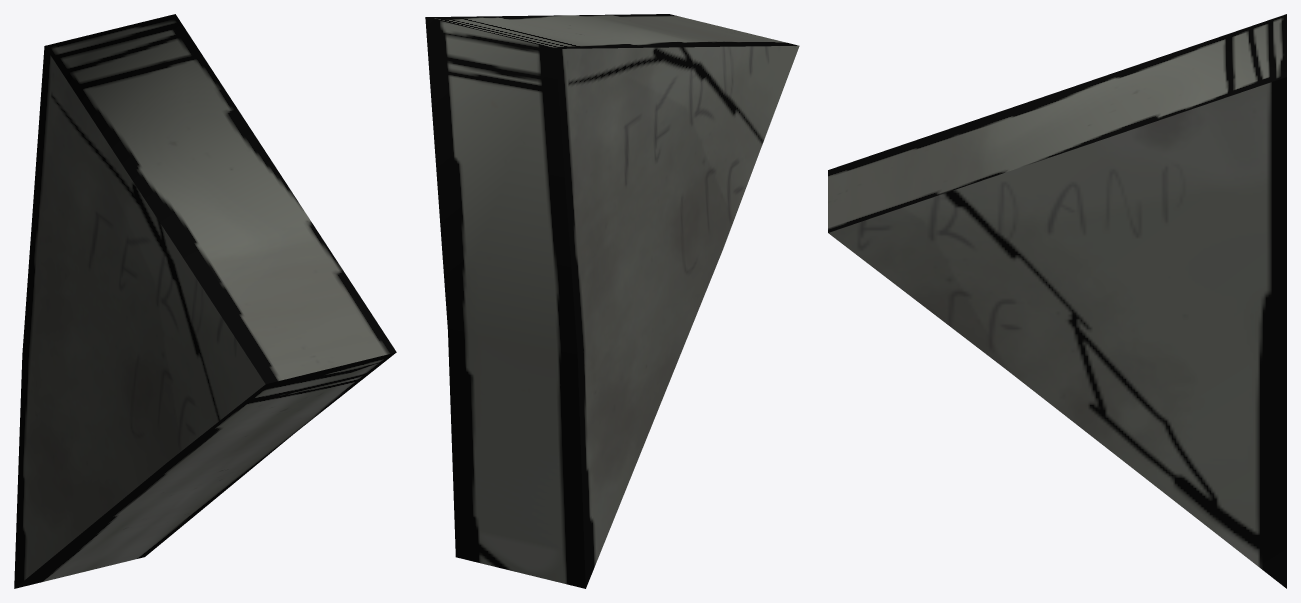
File: tombstone_01_gib4.fbx
The picture shows the model from 3 angles, left to right: view 1: azimuth 30°, elevation 25°; view 2: azimuth 150°, elevation 25°; view 3: azimuth 270°, elevation 25°; orthographic projection.
Visible parts, largest first — view 1: tombstone_01_gib4; view 2: tombstone_01_gib4; view 3: tombstone_01_gib4.
Part boxes in pixels (x1,y1,x2,y2): tombstone_01_gib4: [14, 14, 396, 588]; tombstone_01_gib4: [425, 14, 799, 588]; tombstone_01_gib4: [828, 14, 1286, 588].
Bounding box in the file's own units: 1.23 × 3.91 × 3.09.
